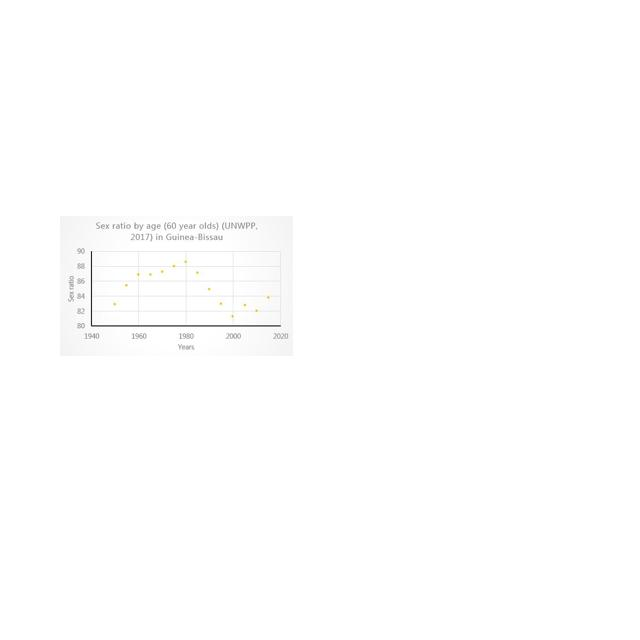Graph: (60, 216, 293, 356)
